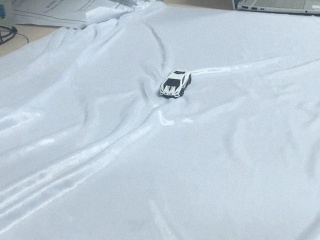toy_car: (160, 70, 191, 98)
